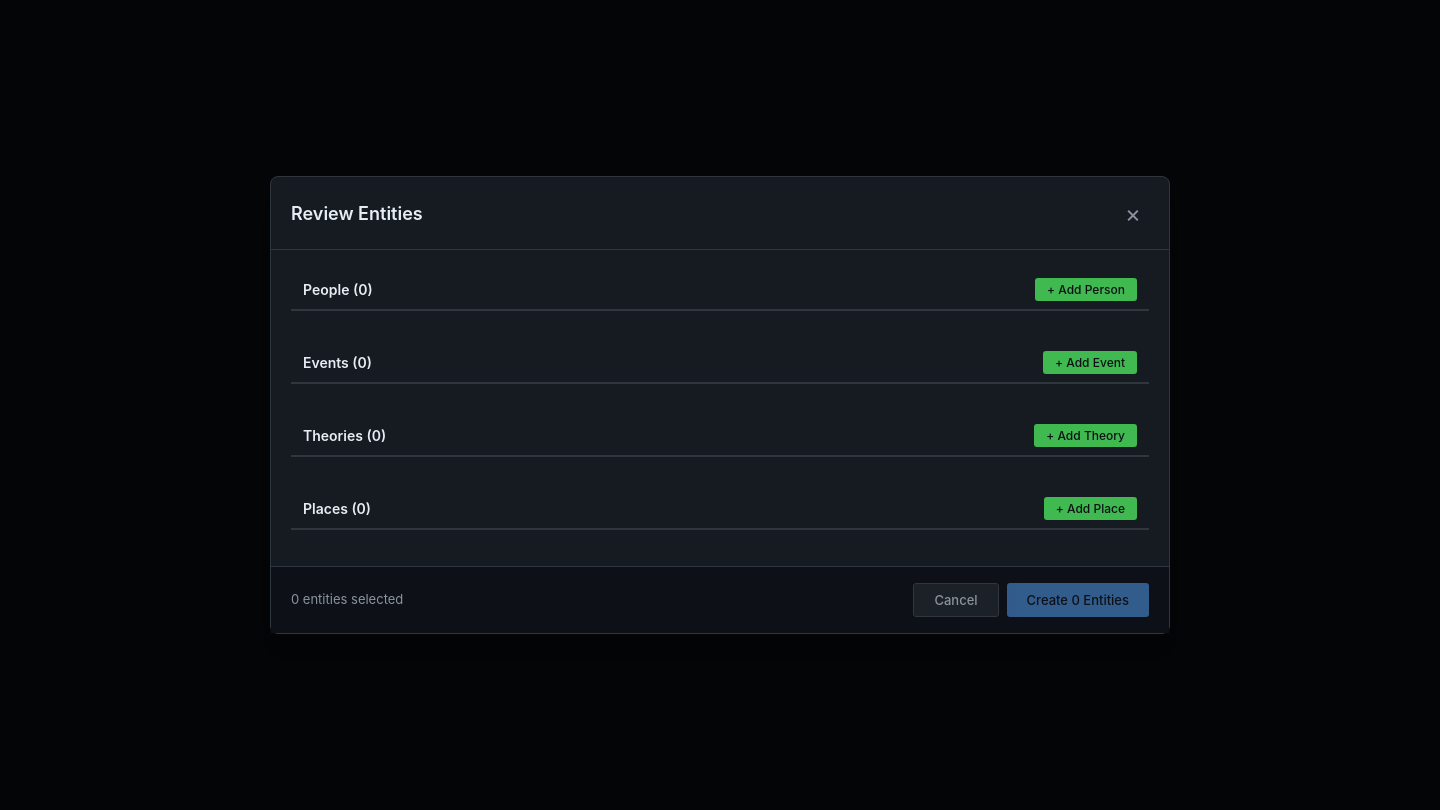
Scenario: EntityReview › Adding Entities › should add a new event
Click the button "+ Add Event".
click(1090, 362)  # box 1043,351 -> 1137,374
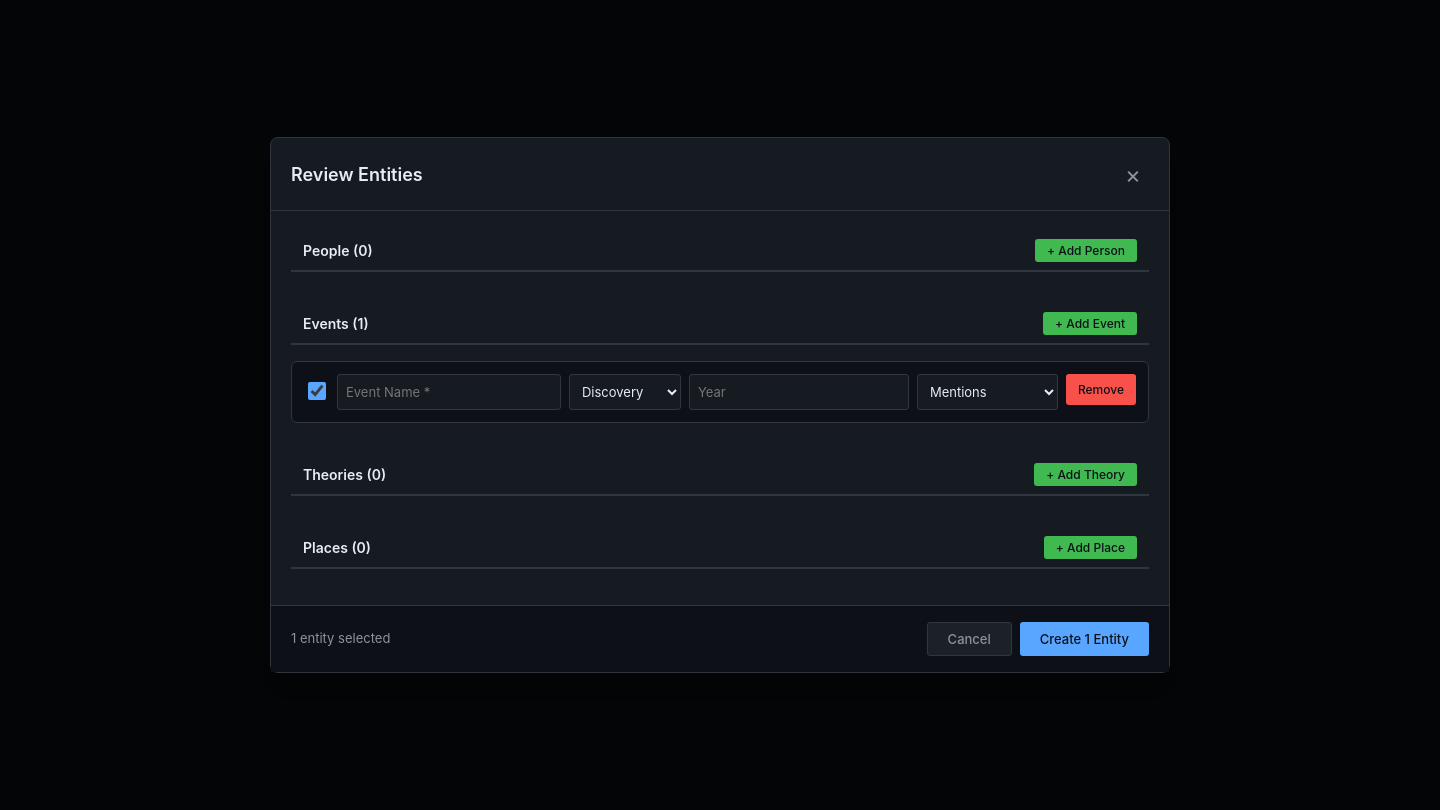
expect the field with placeholder "Event Name *" is shown: met, box 337,374 -> 561,410
